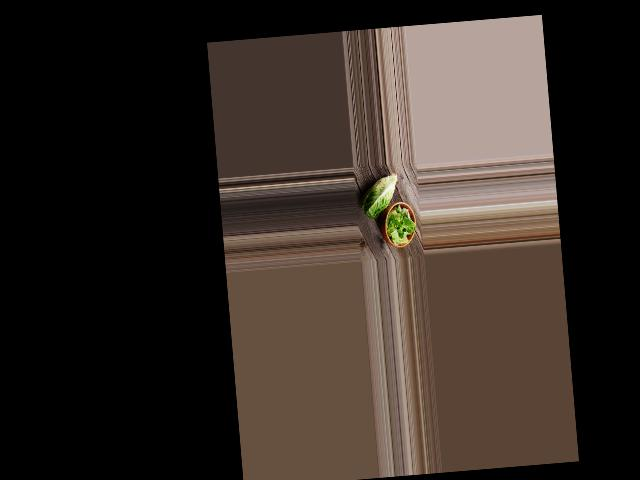lettuce: (357, 174, 400, 219)
